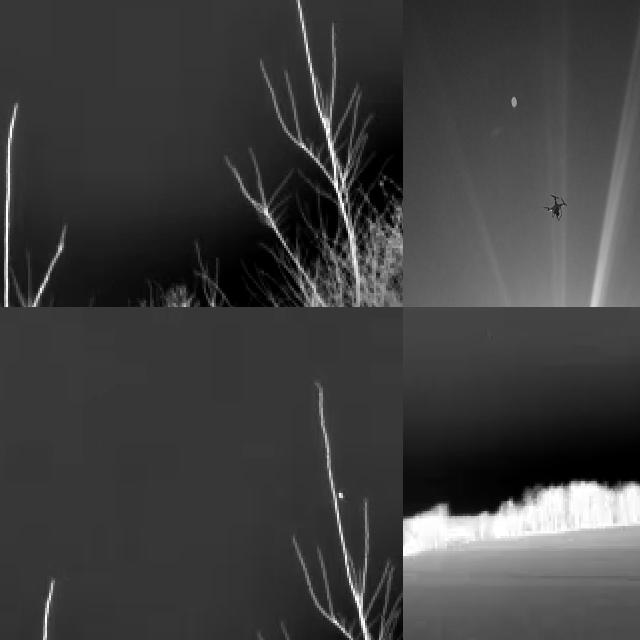0: (332, 486, 348, 508)
drone: (546, 191, 569, 226)
